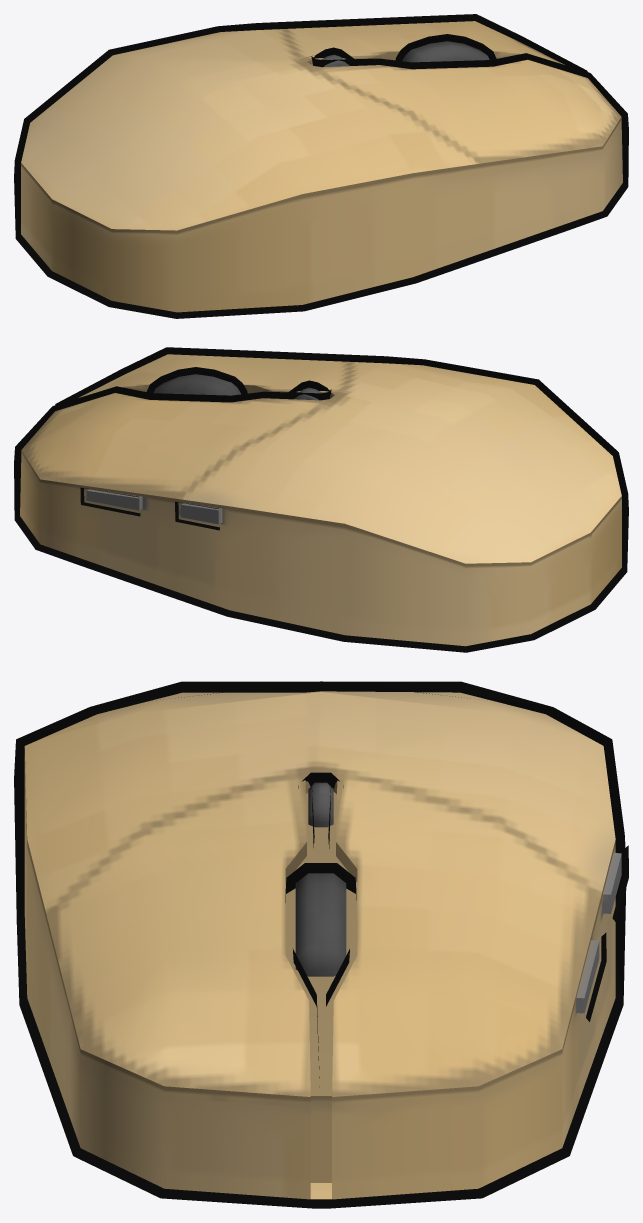
Rendered from Mouse.glb.
3 views of the same model, one above another, from view 1: azimuth 30°, elevation 25°; view 2: azimuth 150°, elevation 25°; view 3: azimuth 270°, elevation 25° (orthographic). The views are drawn at different scales.
Parts seen in each view (by area): view 1: Mouse; view 2: Mouse; view 3: Mouse.
Part boxes in pixels (x1,y1,x2,y2): Mouse: (14, 14, 628, 318); Mouse: (14, 347, 628, 652); Mouse: (14, 681, 628, 1208).
Size of the model in its own units: 1.26 by 0.3522 by 0.8068.
Materials: 2 (1 with a texture image).
